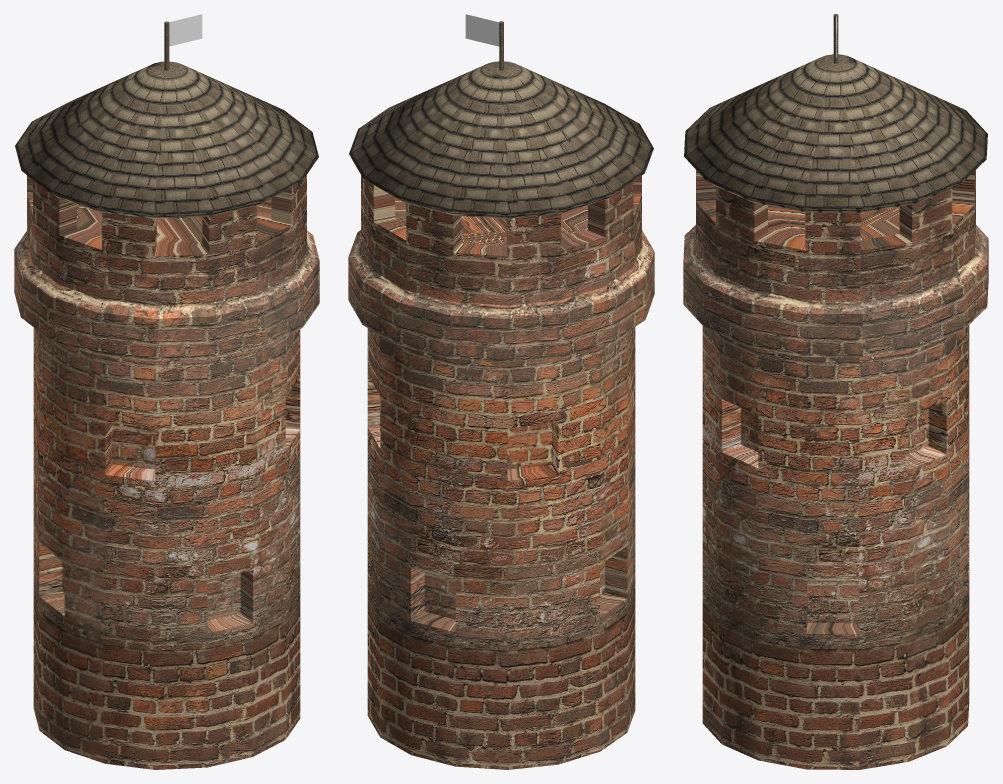
Rendered from bricktower.FBX.
3 views of the same model, side by side, from view 1: azimuth 30°, elevation 25°; view 2: azimuth 150°, elevation 25°; view 3: azimuth 270°, elevation 25° (orthographic).
Parts seen in each view (by area): view 1: Cylinder001, Object001, Box001; view 2: Cylinder001, Object001, Box001; view 3: Cylinder001, Object001.
Boxes of the visible parts, left/top/right/bottom form: Cylinder001: left=14, top=175, right=319, bottom=769; Object001: left=15, top=61, right=318, bottom=218; Box001: left=169, top=14, right=202, bottom=46; Cylinder001: left=348, top=175, right=654, bottom=769; Object001: left=349, top=61, right=653, bottom=218; Box001: left=465, top=14, right=499, bottom=46; Cylinder001: left=683, top=170, right=988, bottom=769; Object001: left=684, top=54, right=987, bottom=212.
Bounding box in the file's own units: 50.96 × 129 × 50.96.
